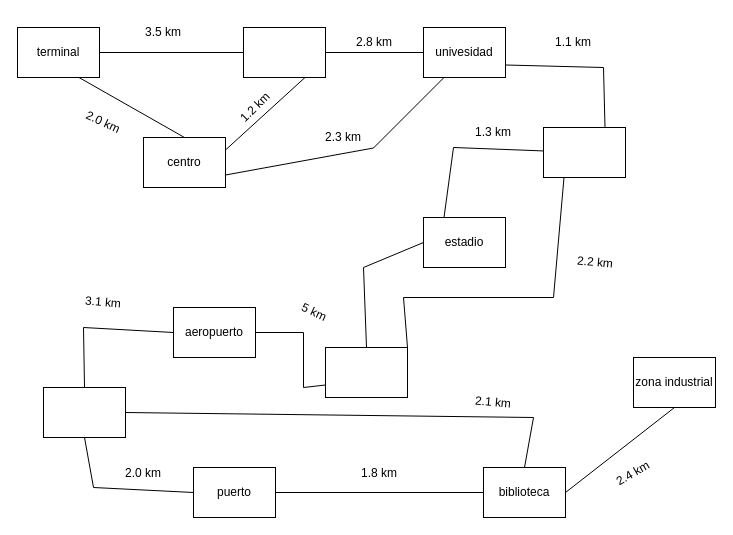
The diagram is 733 pixels wide and 535 high, and some of its shapes have lost their labels. The box of each missing label's shape, as (x1, y1, x2, y2) in pixels:
hospital: (242, 26, 326, 78)
mercado: (324, 346, 408, 398)
museo: (42, 386, 126, 438)
parque: (542, 126, 626, 178)
